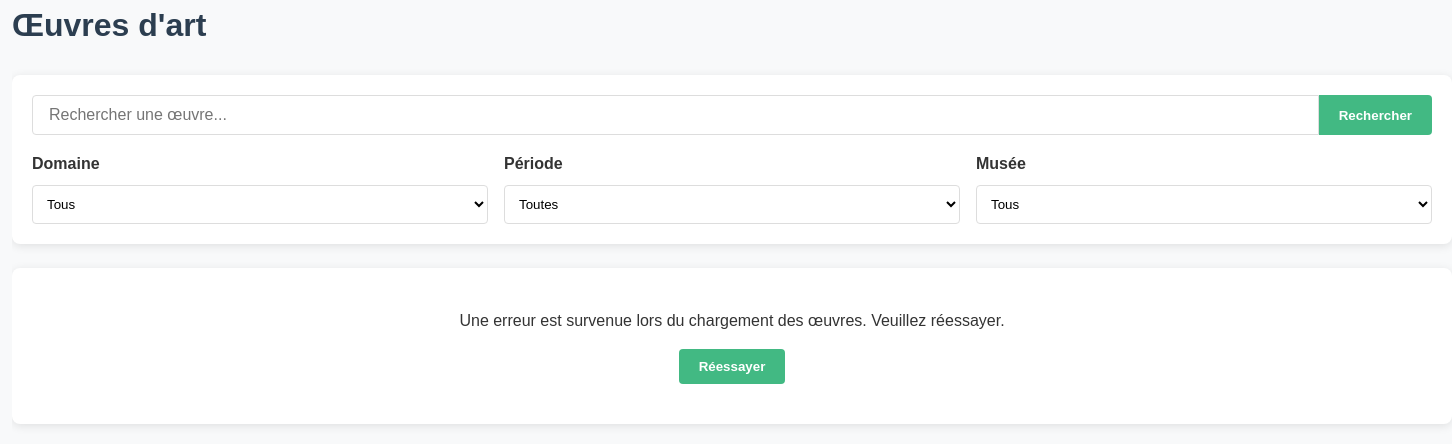
ArtworksView › signale l'erreur et permet de réessayer
The width and height of the screenshot is (1452, 444).
Expected: the element with class "error" shows "Une erreur est survenue", [459,312,1005,329]
Click the button "Réessayer": (732, 367) [679,349,785,384]
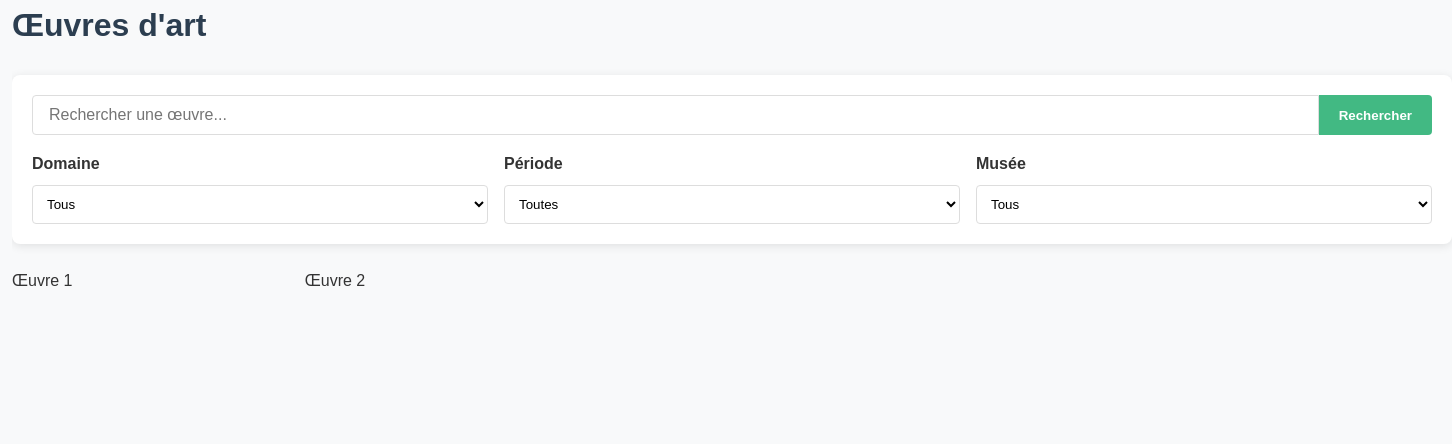
Now the number of elements with class "carte" is 2, box [12,272,72,289]; [305,272,365,289]
